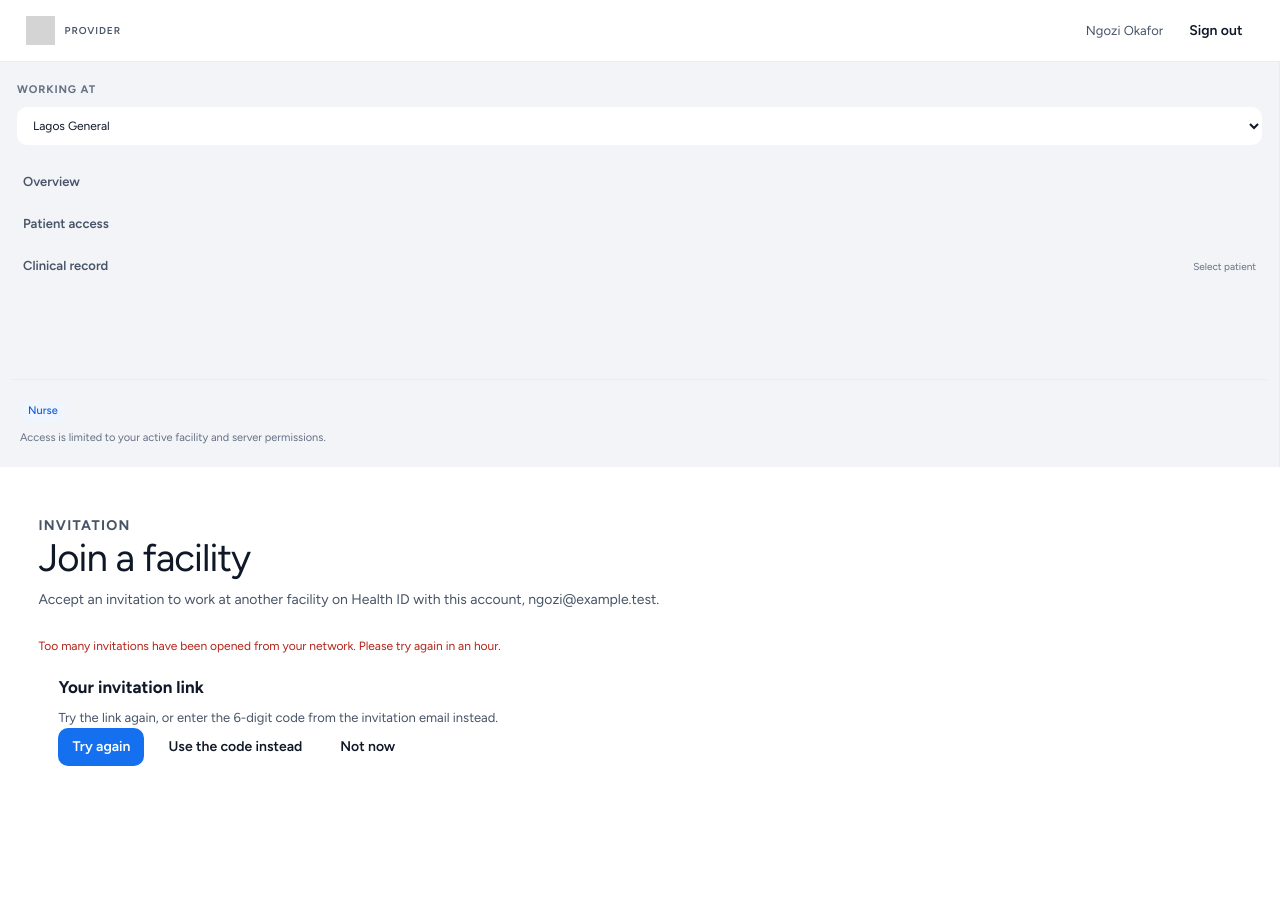
Test: joining signed in › after too many tries from the network, offers to try the held link again, which then previews it
The width and height of the screenshot is (1280, 900).
Expected: the message shows "Too many invitations have been opened from your network. Please try again in an hour.", [38,639,501,653]
Expected: the button "Use the code instead" is shown, [154,728,316,766]
Click the button "Try again" at [101, 747], box [58,728,144,766]
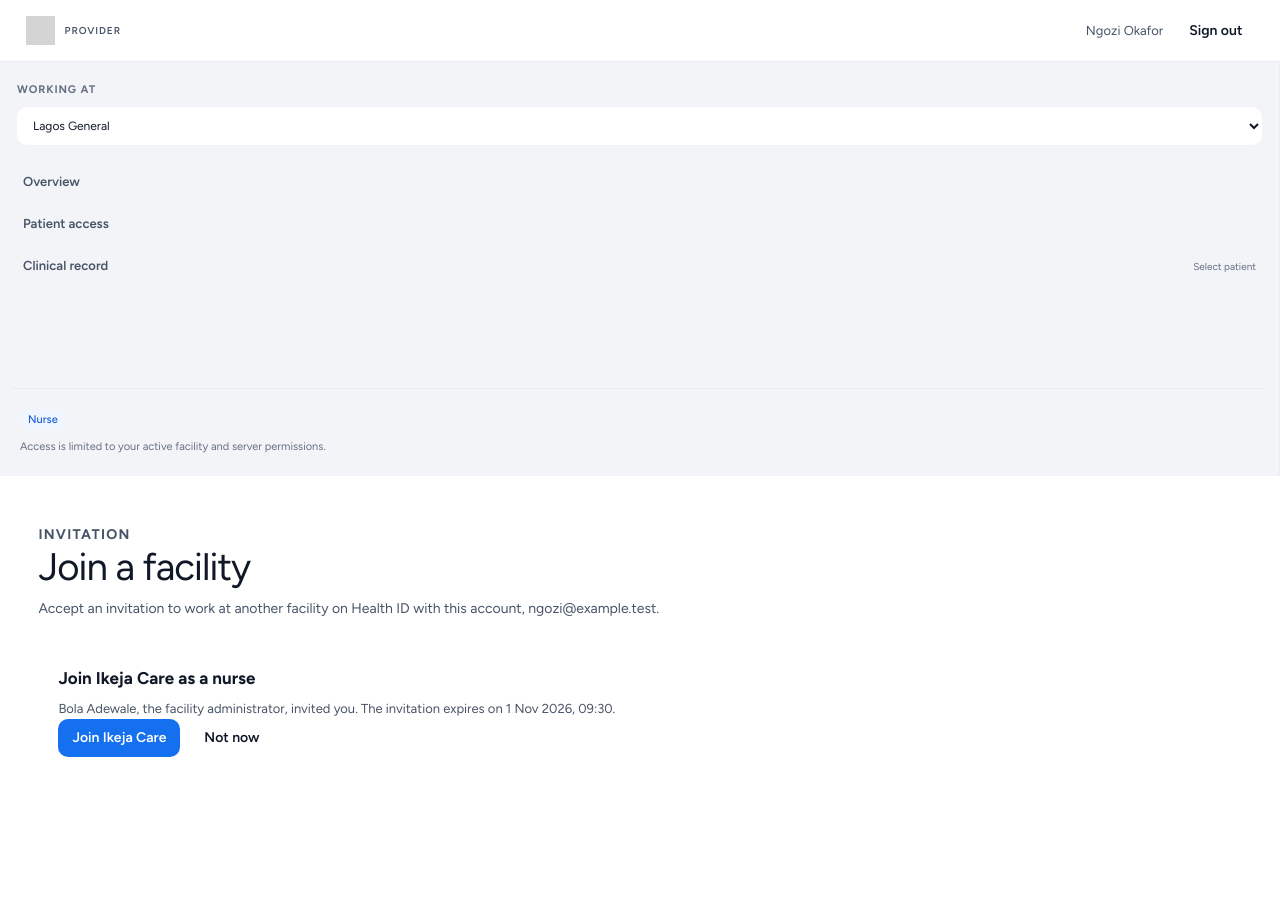
Expected: the heading "Join Ikeja Care as a nurse" is shown, [58,668,255,688]
Expected: the message "Too many invitations have been opened from your network. Please try again in an" is gone
